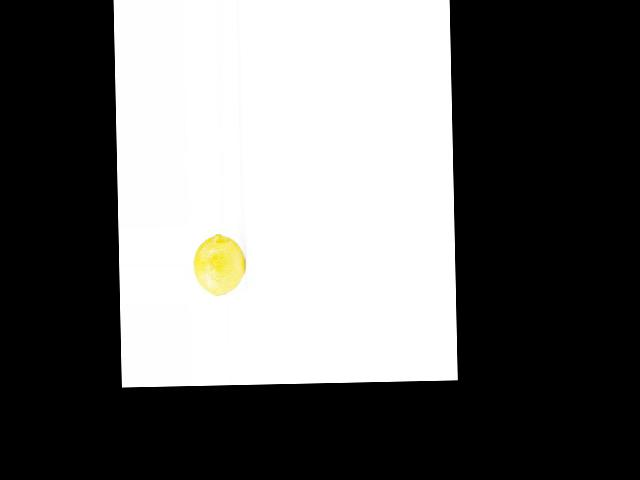lemon: (191, 224, 247, 303)
